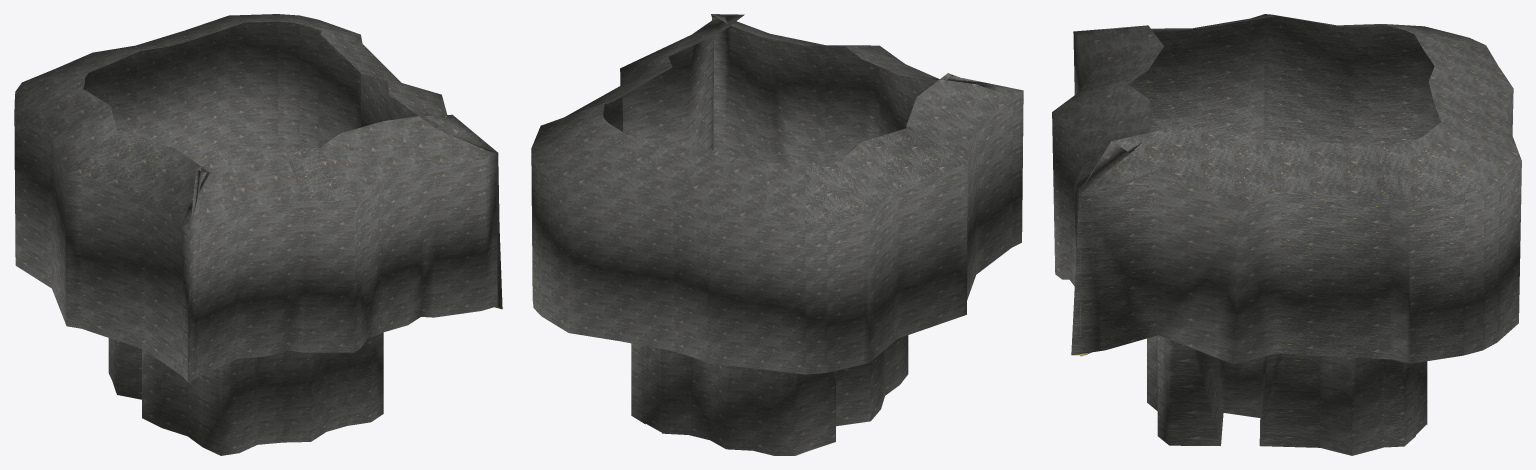
File: wall.fbx
3 views of the same model, side by side, from view 1: azimuth 30°, elevation 25°; view 2: azimuth 150°, elevation 25°; view 3: azimuth 270°, elevation 25° (orthographic). The views are drawn at different scales.
Visible parts, largest first — view 1: xQXKfFih1q0oFcKoVC5dcU__; view 2: xQXKfFih1q0oFcKoVC5dcU__; view 3: xQXKfFih1q0oFcKoVC5dcU__.
Part boxes in pixels (<box>): xQXKfFih1q0oFcKoVC5dcU__: <box>14,14,502,455</box>; xQXKfFih1q0oFcKoVC5dcU__: <box>531,14,1023,455</box>; xQXKfFih1q0oFcKoVC5dcU__: <box>1052,14,1521,455</box>.
Bounding box in the file's own units: 5316 × 4323 × 5605.
